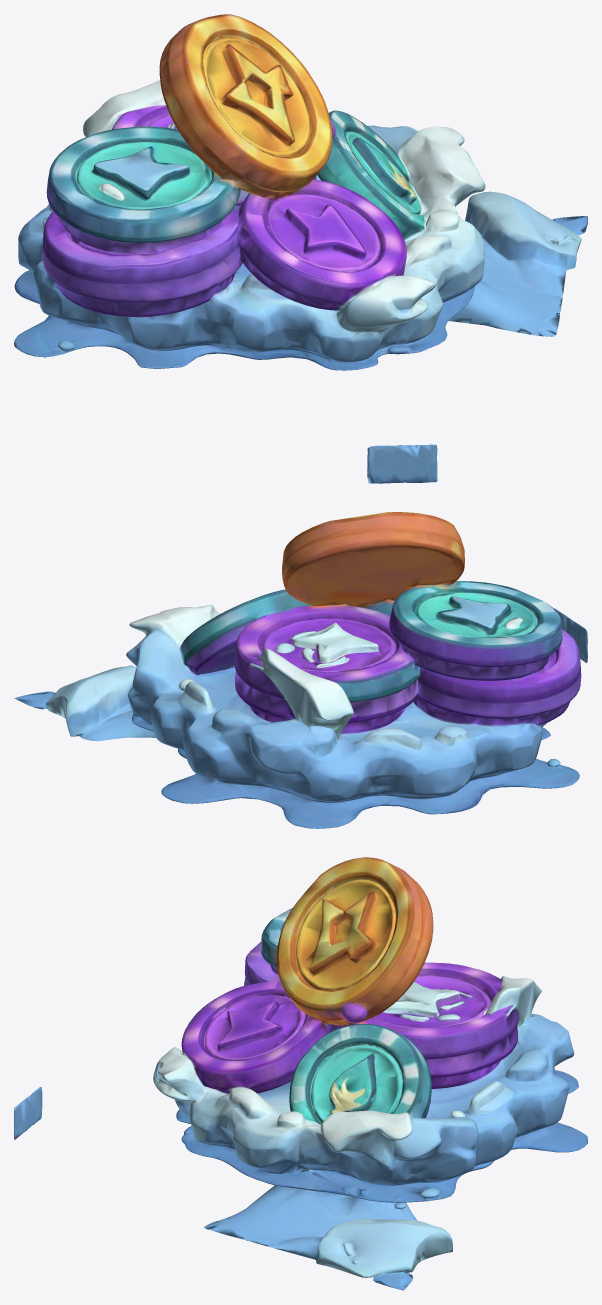
The model's file is pv-token-cluster-diet.glb.
The picture shows the model from 3 angles, top to bottom: view 1: azimuth 30°, elevation 25°; view 2: azimuth 150°, elevation 25°; view 3: azimuth 270°, elevation 25°; orthographic projection. The views are drawn at different scales.
Parts seen in each view (by area): view 1: tripo_node_1c59feb6-8540-48ba-8b9a-be0850411767; view 2: tripo_node_1c59feb6-8540-48ba-8b9a-be0850411767; view 3: tripo_node_1c59feb6-8540-48ba-8b9a-be0850411767.
Boxes of the visible parts, x1=… form: tripo_node_1c59feb6-8540-48ba-8b9a-be0850411767: x1=14, y1=14, x2=587, y2=483; tripo_node_1c59feb6-8540-48ba-8b9a-be0850411767: x1=14, y1=512, x2=587, y2=828; tripo_node_1c59feb6-8540-48ba-8b9a-be0850411767: x1=14, y1=857, x2=587, y2=1290.
Size of the model in its own units: 0.9835 by 0.4847 by 0.9455.
1 material, 1 textured.
